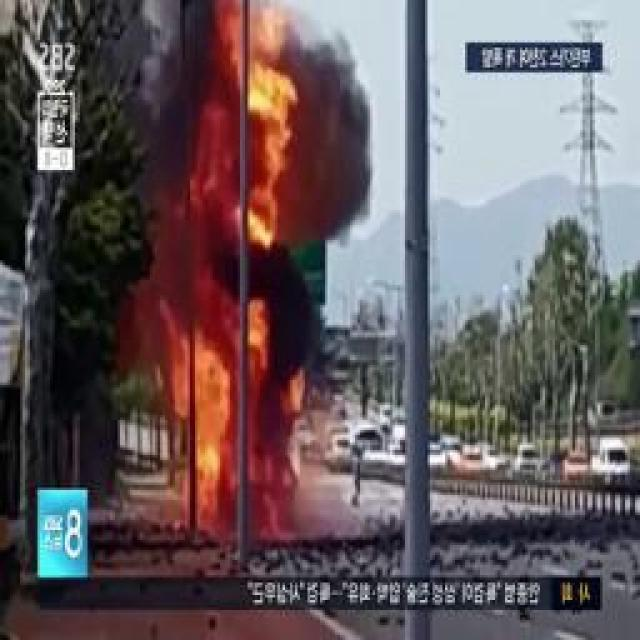Fire: (162, 282, 267, 530), (193, 31, 295, 234)
